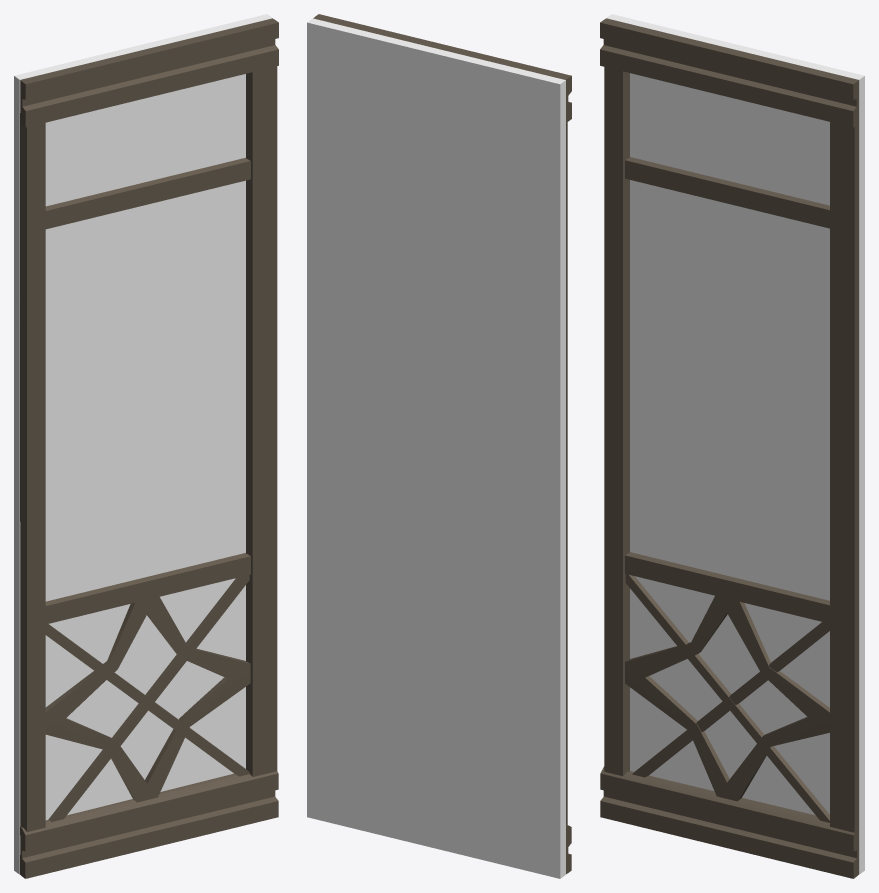
The model's file is WALL_04_1.fbx.
3 renders of one model, left to right at view 1: azimuth 30°, elevation 25°; view 2: azimuth 150°, elevation 25°; view 3: azimuth 330°, elevation 25°, orthographic.
Parts seen in each view (by area): view 1: WALL_04_1; view 2: WALL_04_1; view 3: WALL_04_1.
Boxes of the visible parts, bbox=[...] form: WALL_04_1: bbox=[14, 14, 278, 878]; WALL_04_1: bbox=[307, 14, 571, 878]; WALL_04_1: bbox=[600, 14, 864, 878].
Size of the model in its own units: 100 by 300 by 8.
